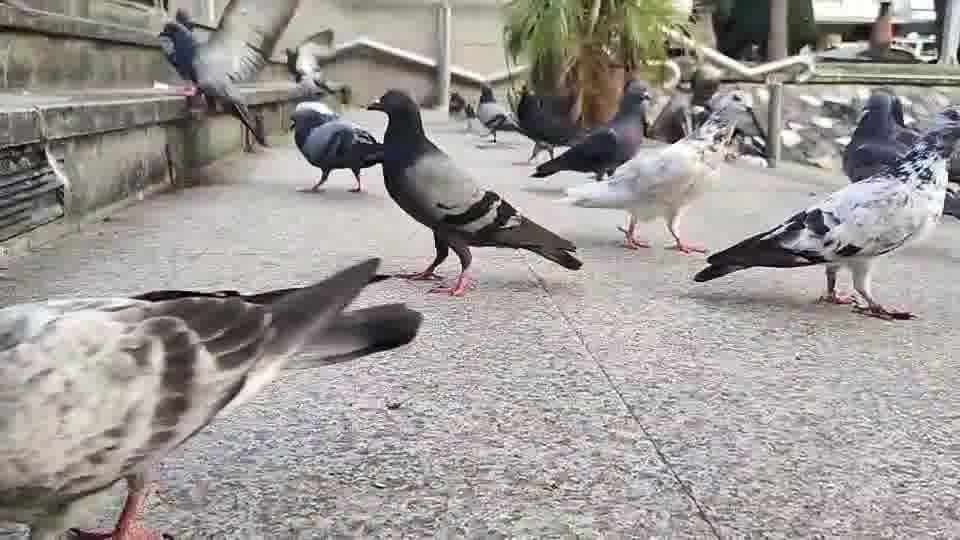Pigeon: (0, 255, 424, 539), (692, 124, 950, 321), (361, 87, 583, 297), (555, 116, 738, 255), (157, 0, 300, 149), (840, 91, 959, 220), (527, 78, 652, 182), (287, 100, 384, 193), (505, 81, 586, 163), (695, 89, 769, 164), (283, 28, 339, 98), (646, 79, 695, 144), (475, 81, 518, 143)
